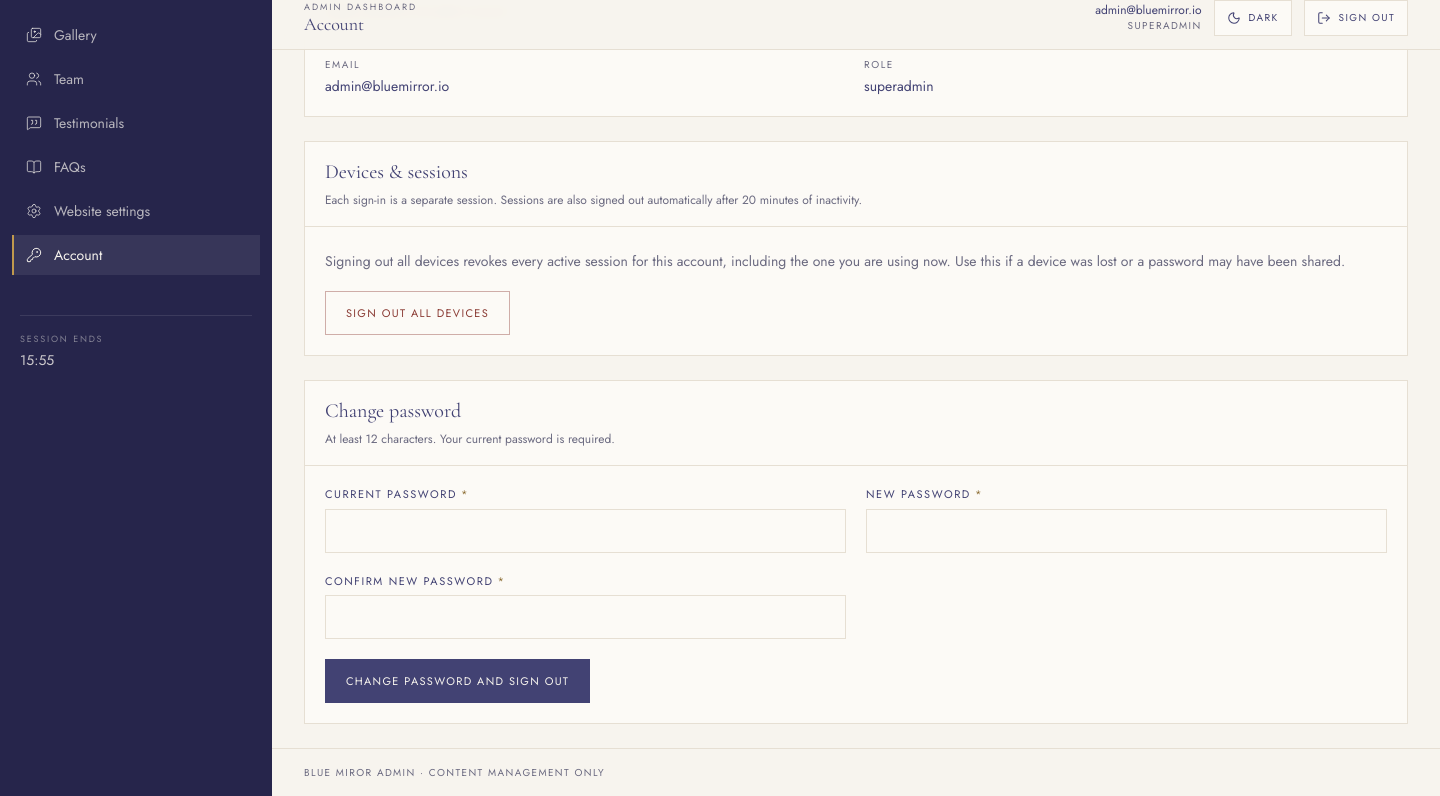
Test: admin account password change › rejects a confirmation that does not match
(page scrolled)
In the password field labelled "Current password*": [586, 531] box [325,509,846,553], type "correct-horse-battery"
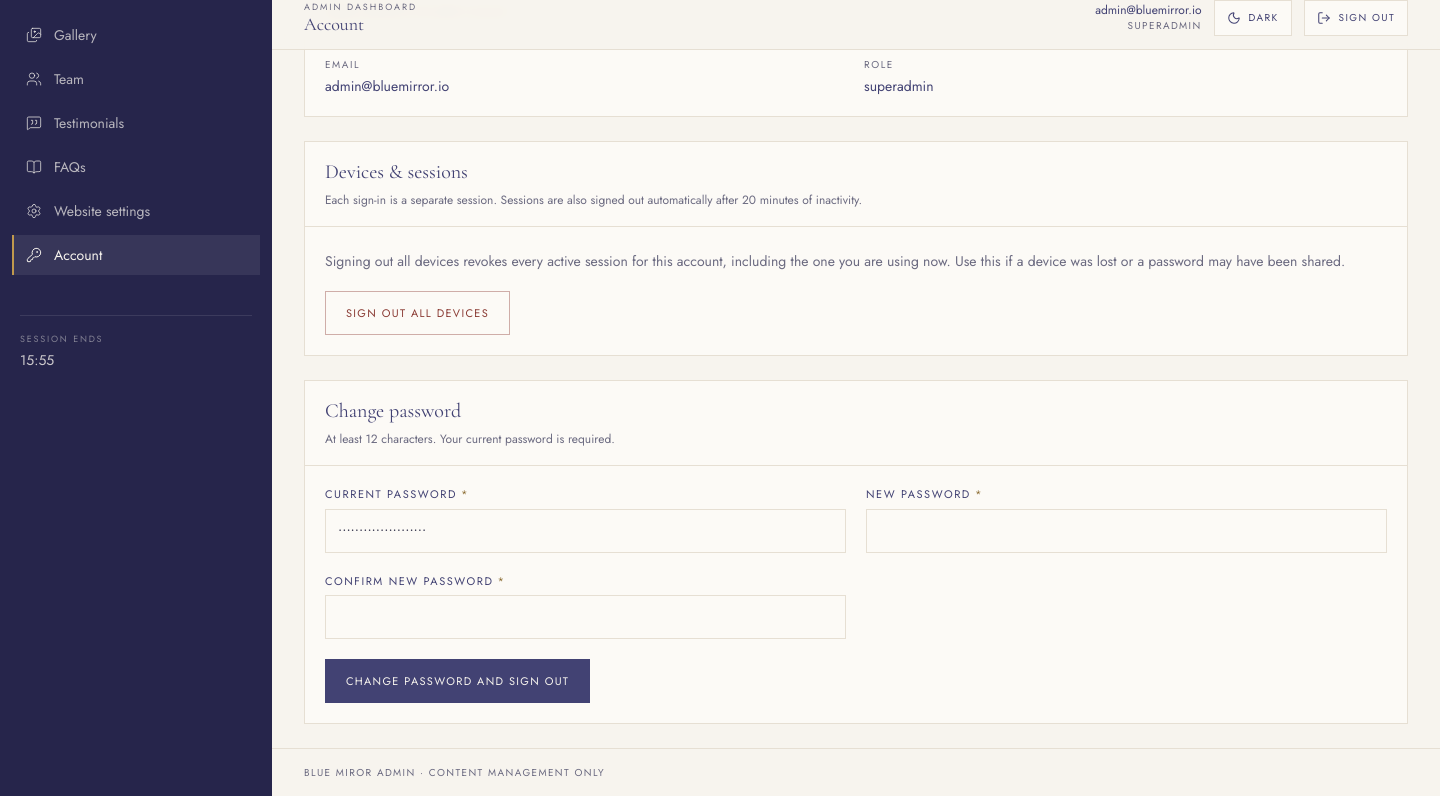
In the password field labelled "New password*": [1126, 531] box [866,509,1387,553], type "LongEnoughPassword-1"
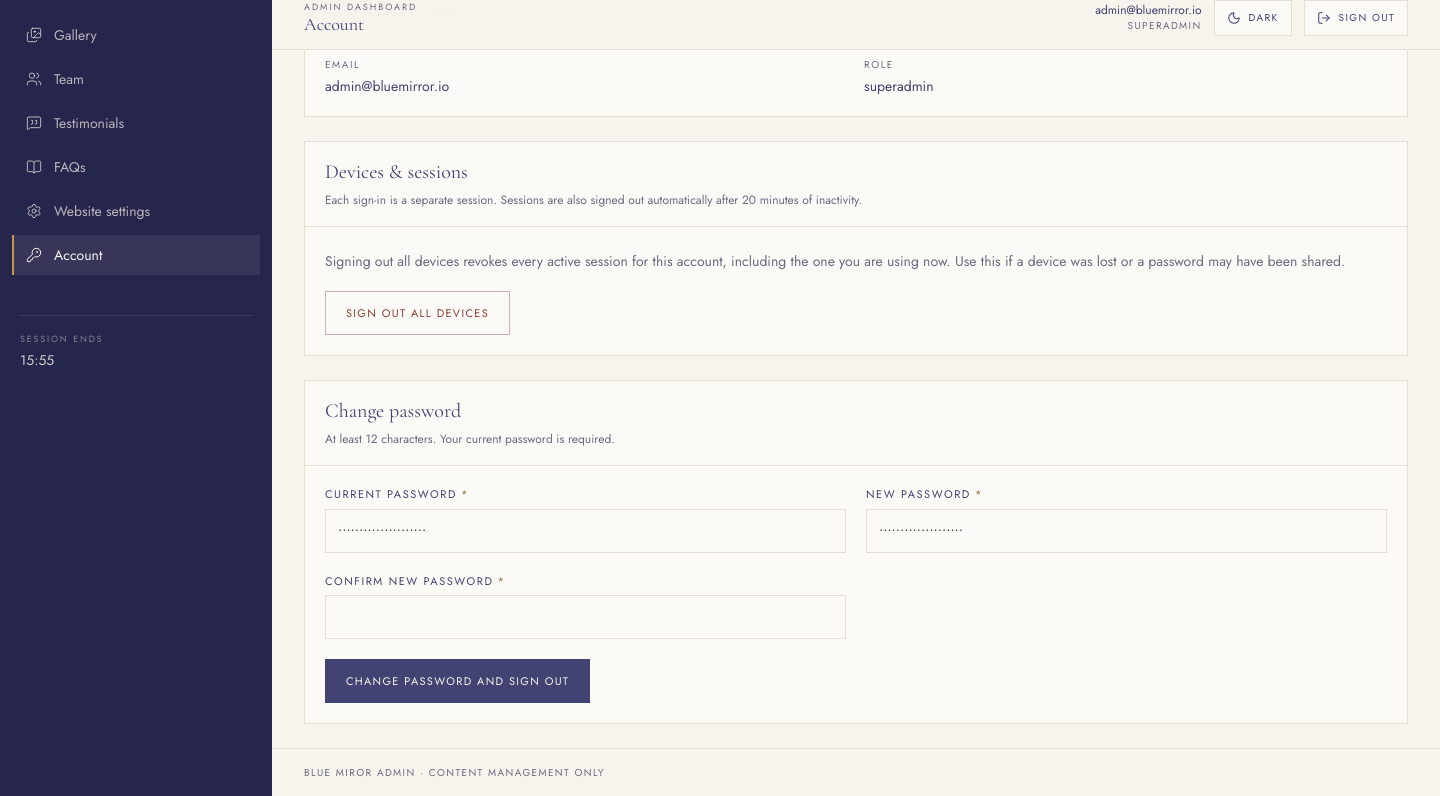
In the password field labelled "Confirm new password*": [586, 617] box [325,595,846,639], type "LongEnoughPassword-2"
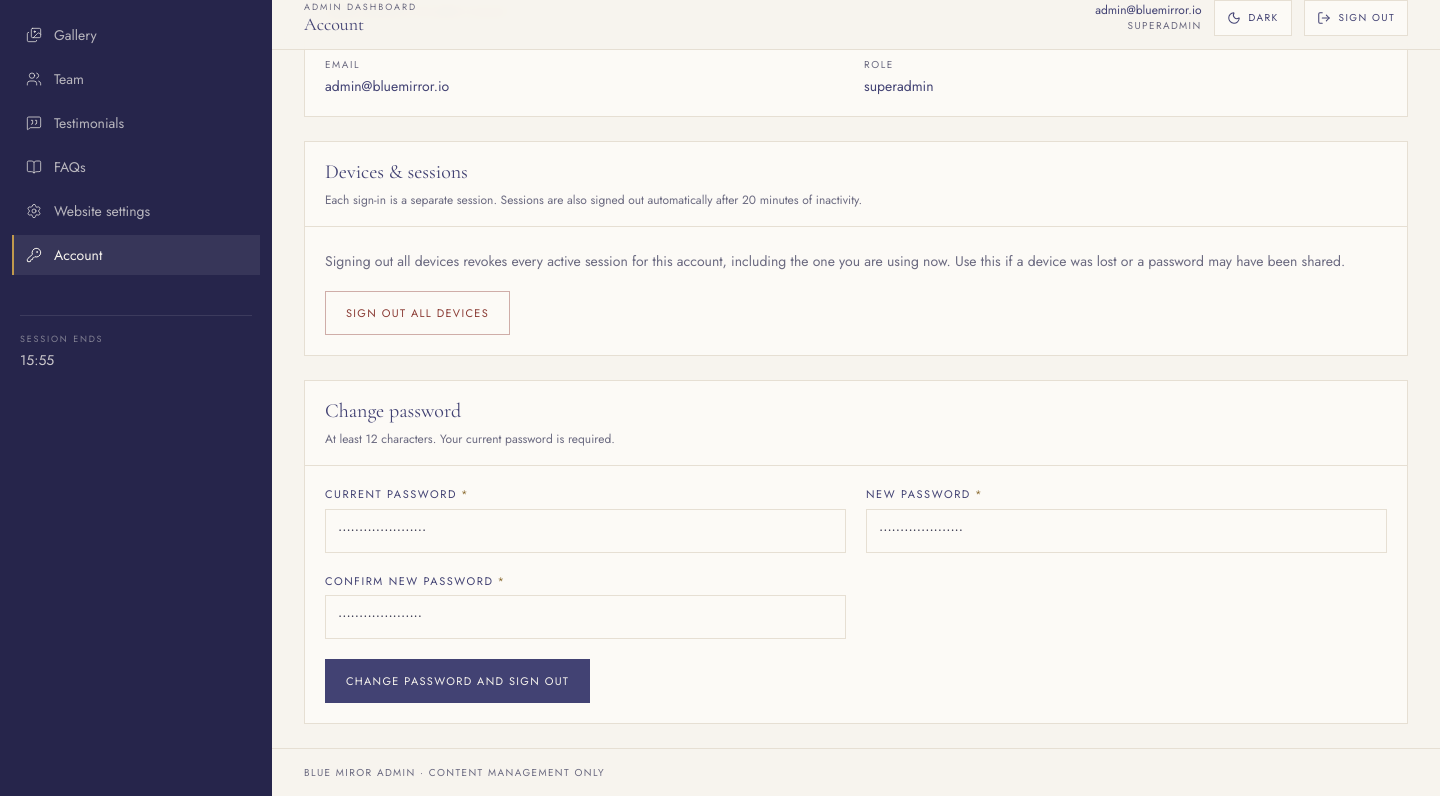
Click the button "Change password and sign out": [458, 681] box [325,659,590,703]
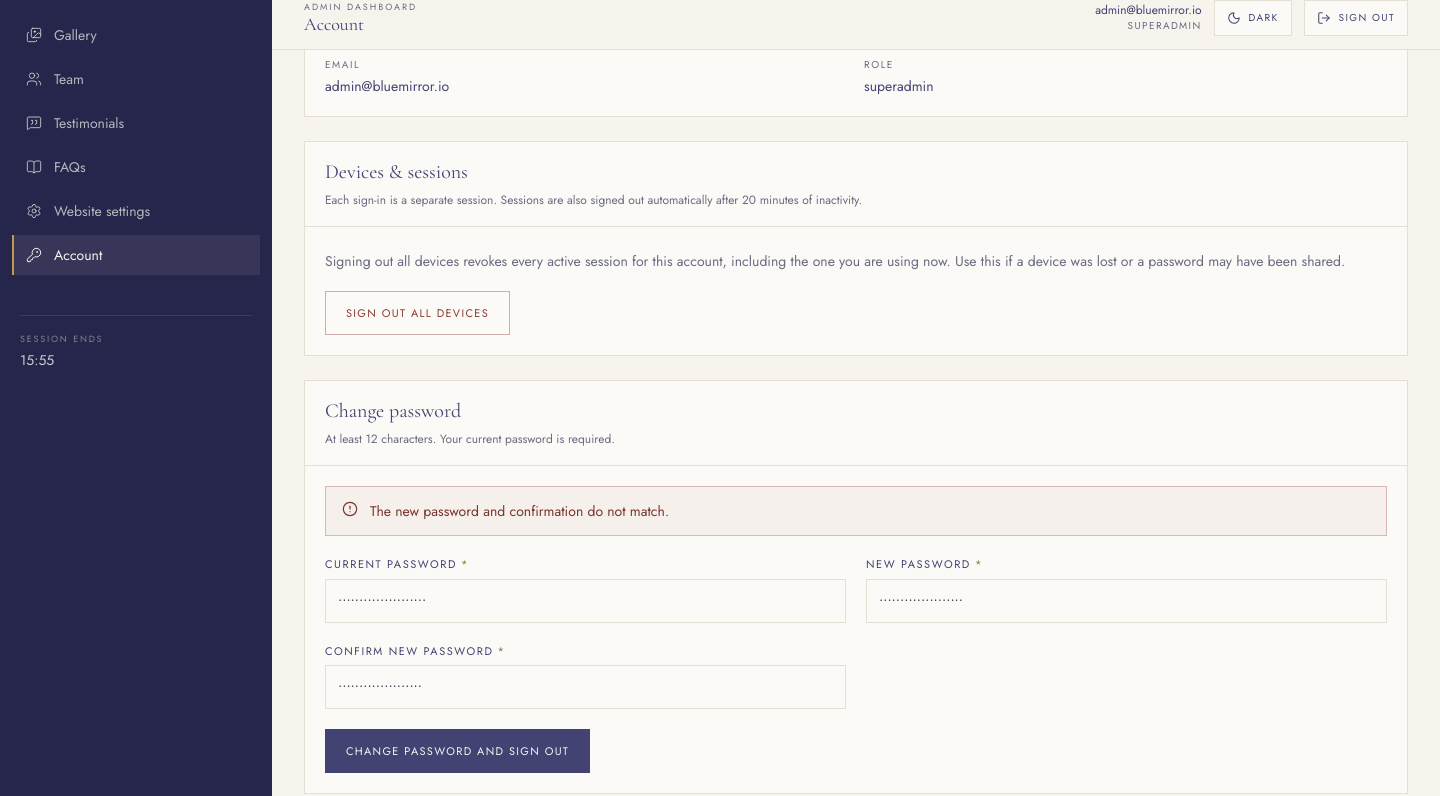
Now the text "The new password and confirmation do not match." is shown, box [370,499,669,523]
